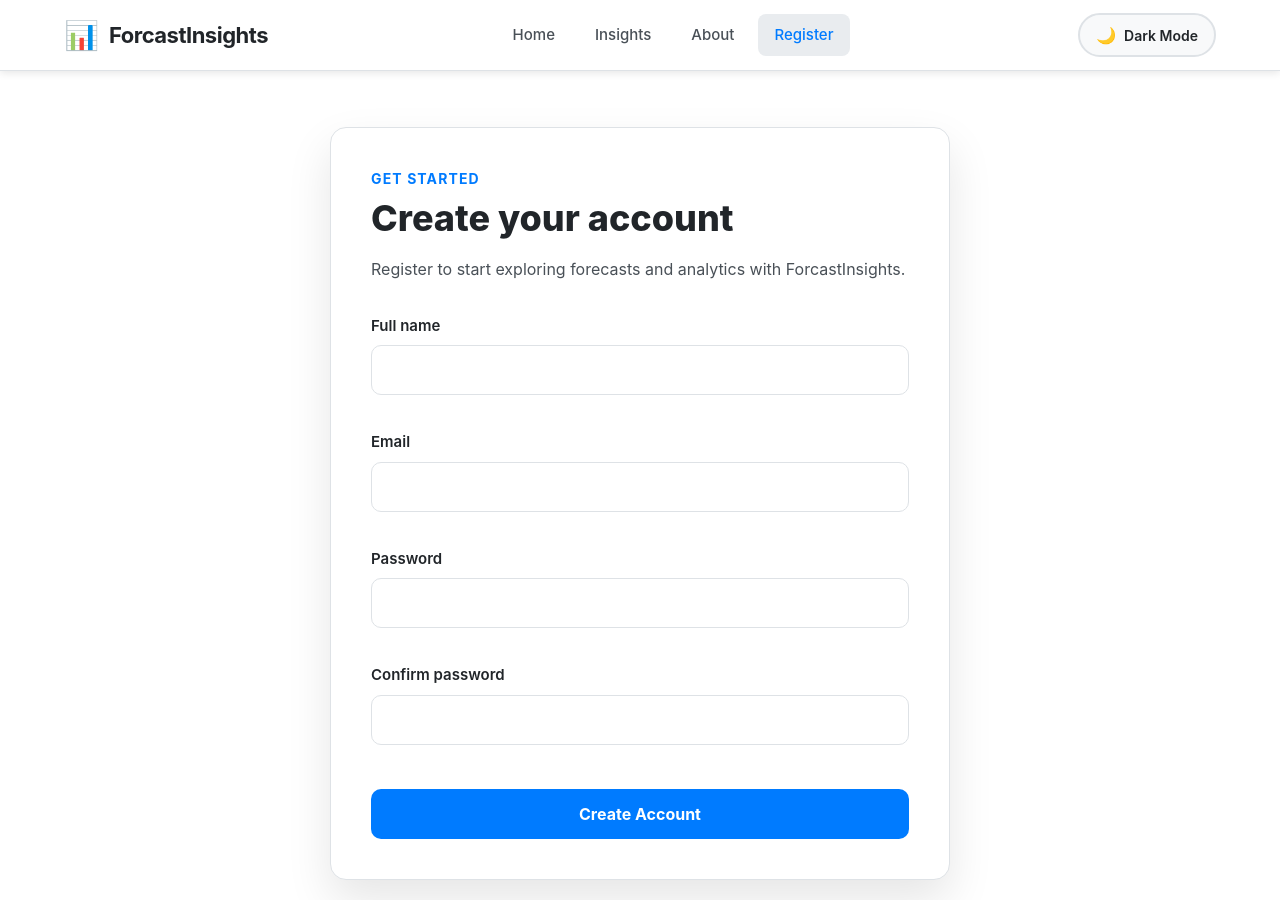
Test case: Register › validates a field when it loses focus
In the field labelled "Full name": coordinates (640, 370) [371,345,909,395], type "J"
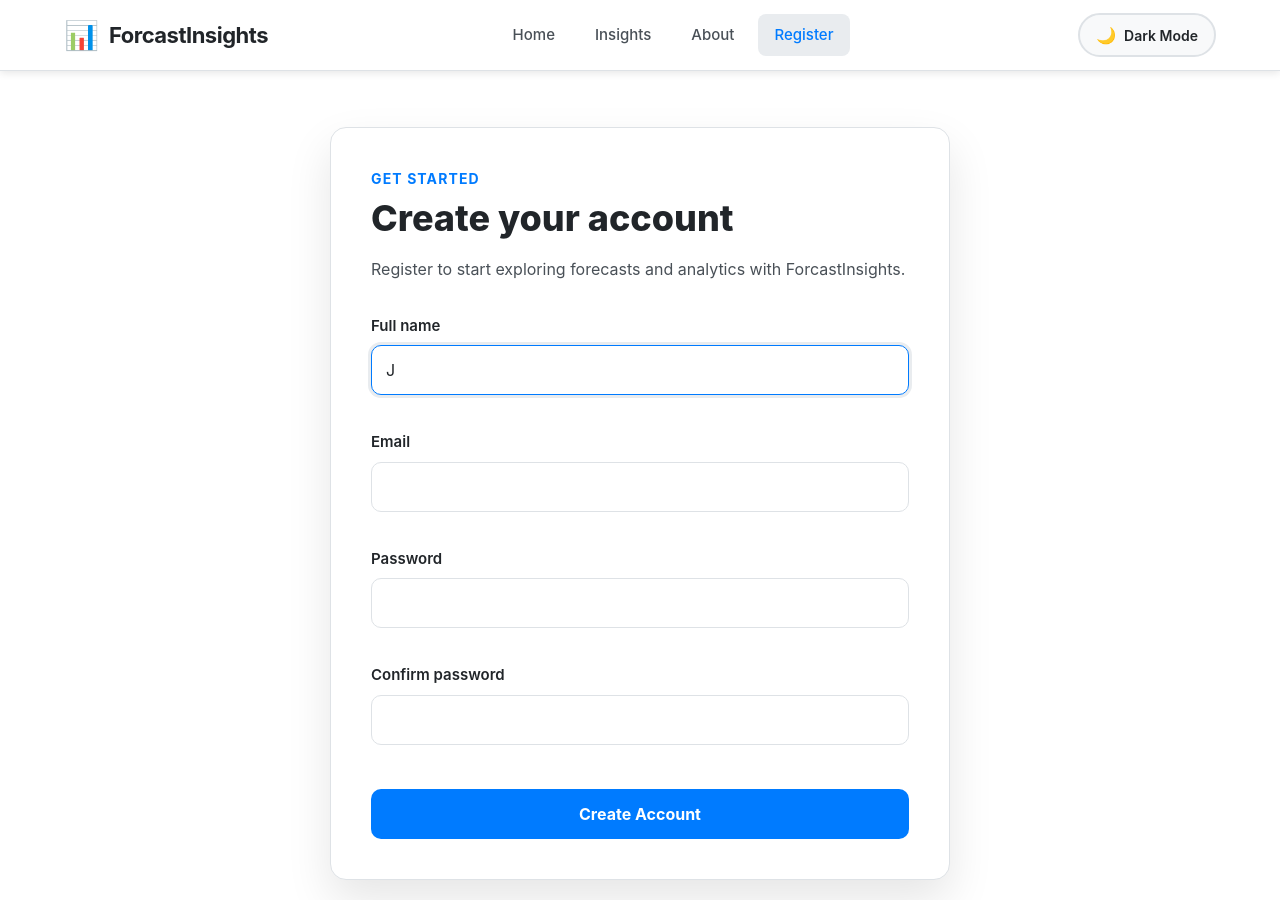
Click the field labelled "Email": coordinates (640, 487) [371,462,909,512]
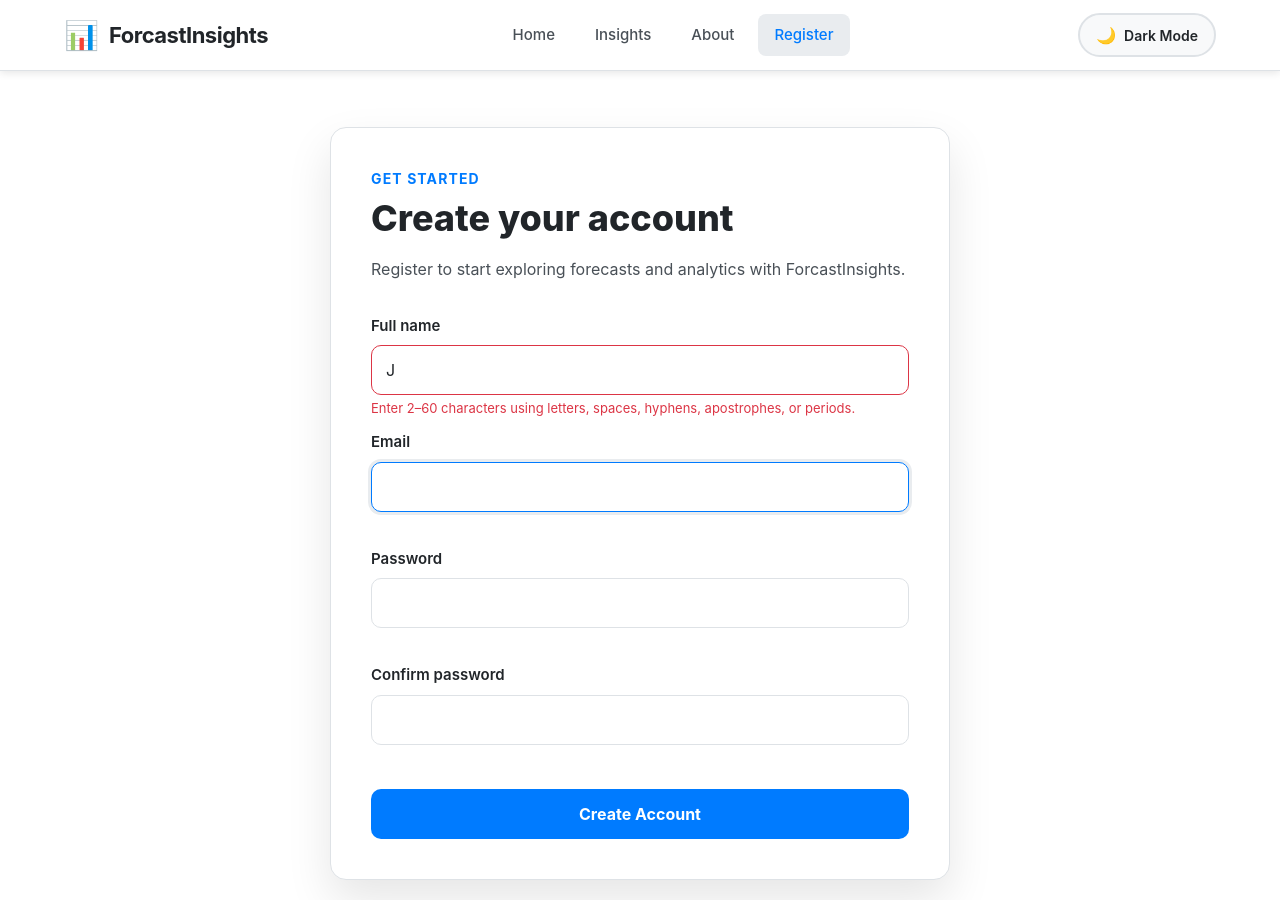
Expected: the text "Enter 2–60 characters using letters, spaces, hyphens, apostrophes, or periods." is shown, [371,399,909,421]
